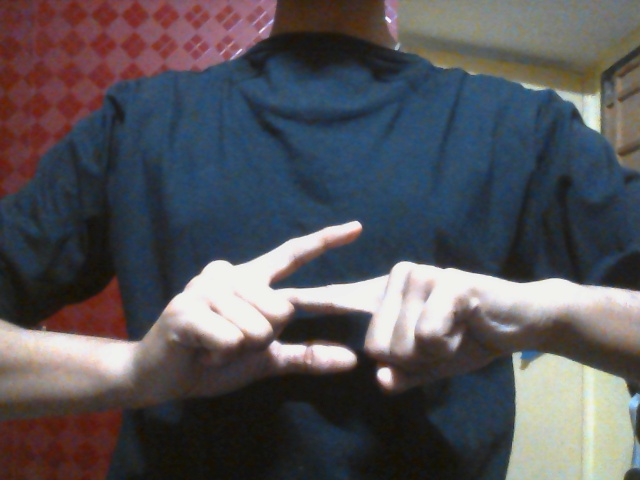E: (145, 219, 508, 404)
